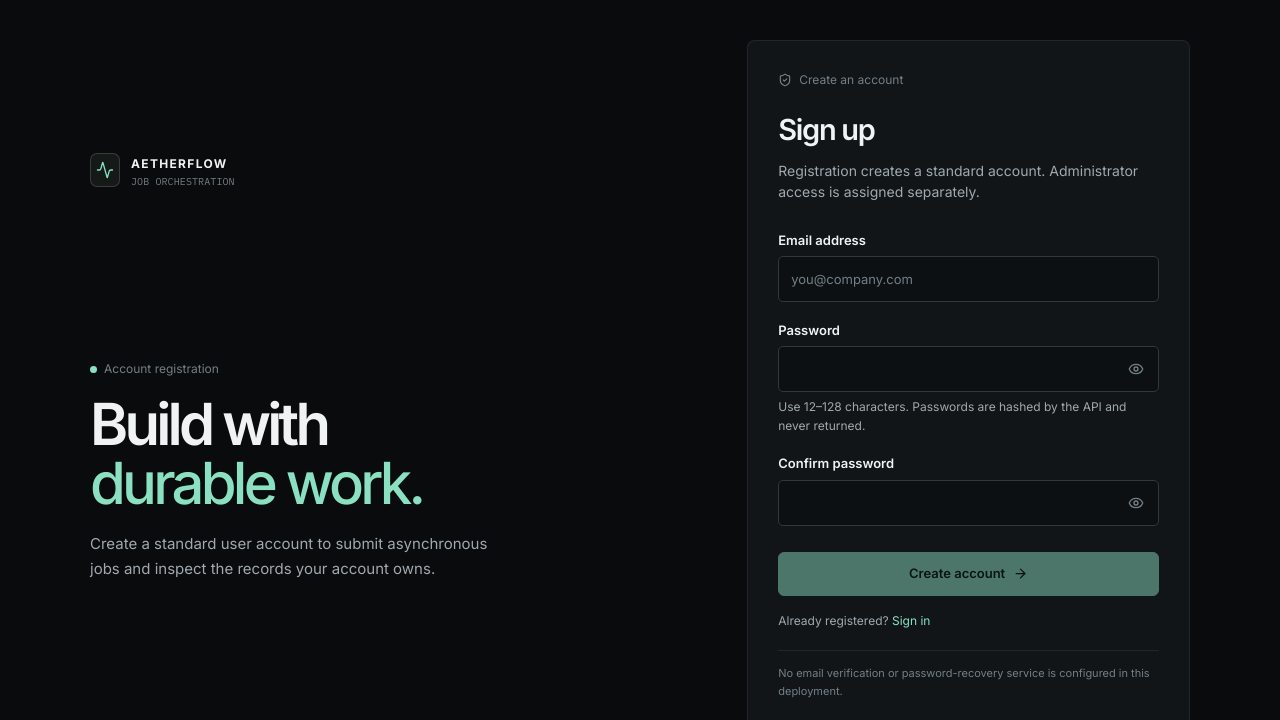
Scenario: registration page › creates a standard account and leaves sign-in as a separate step
The image size is (1280, 720).
In the field labelled "Email address": x=969, y=279 [778,256,1159,302], type " new-user@example.com "
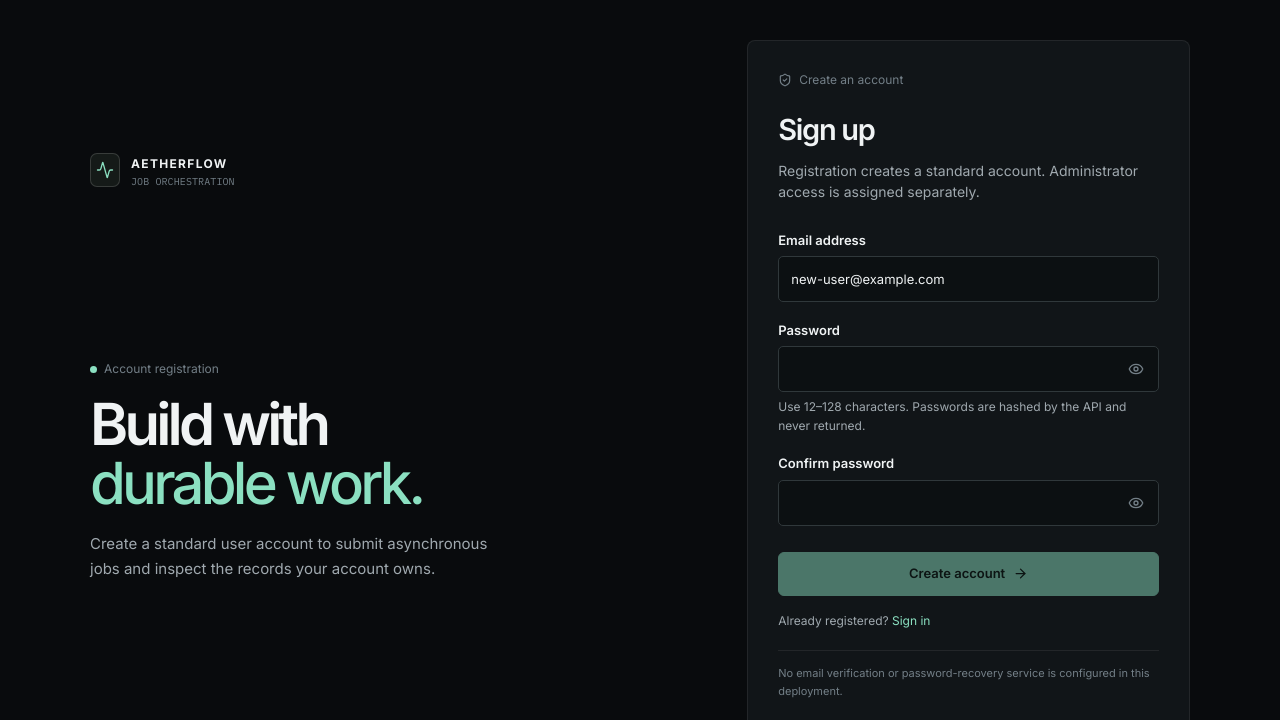
In the password field labelled "Password": x=969, y=369 [778,346,1159,392], type "a long registration password"
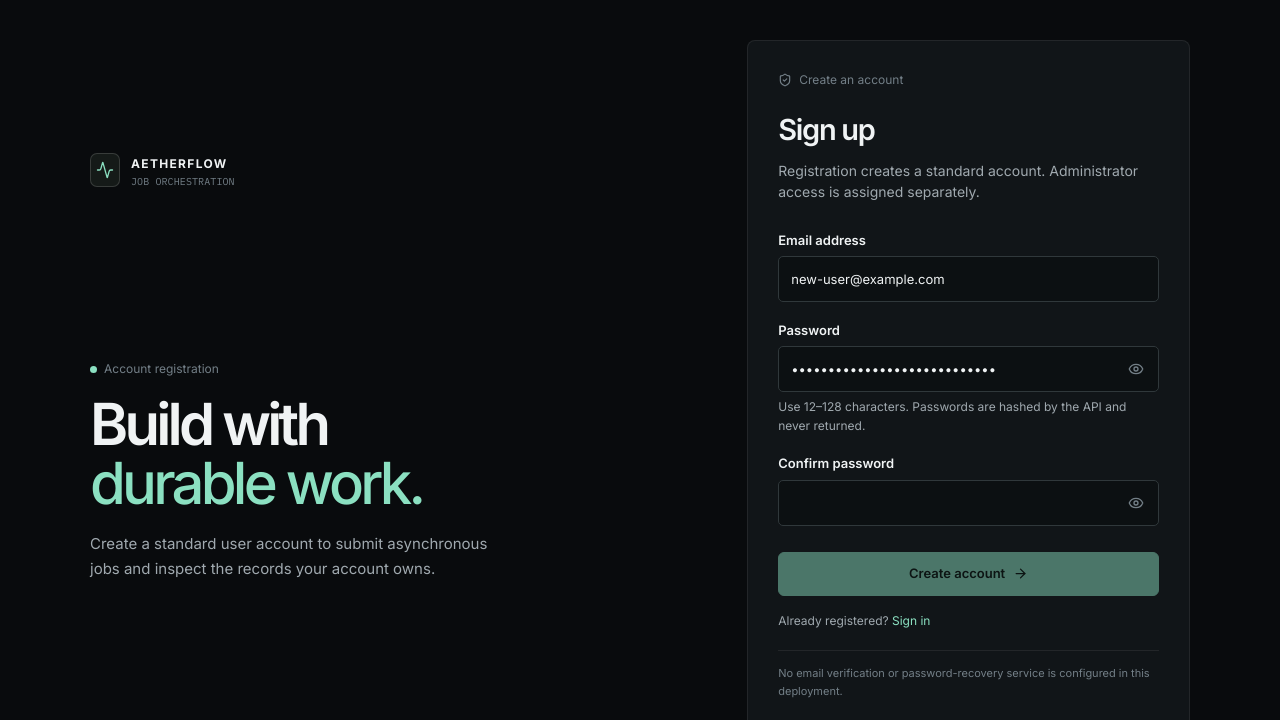
In the password field labelled "Confirm password": x=969, y=502 [778,480,1159,526], type "a long registration password"
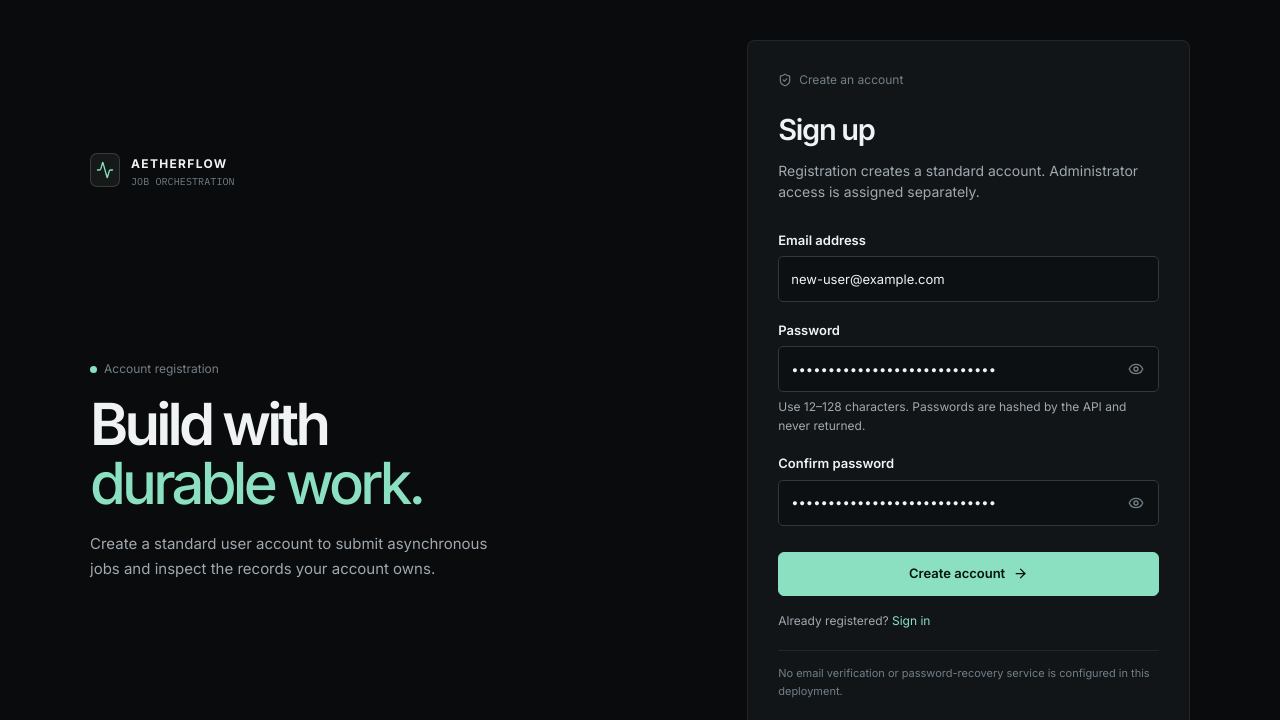
Click the button "Create account": x=969, y=574 [778,552,1159,596]
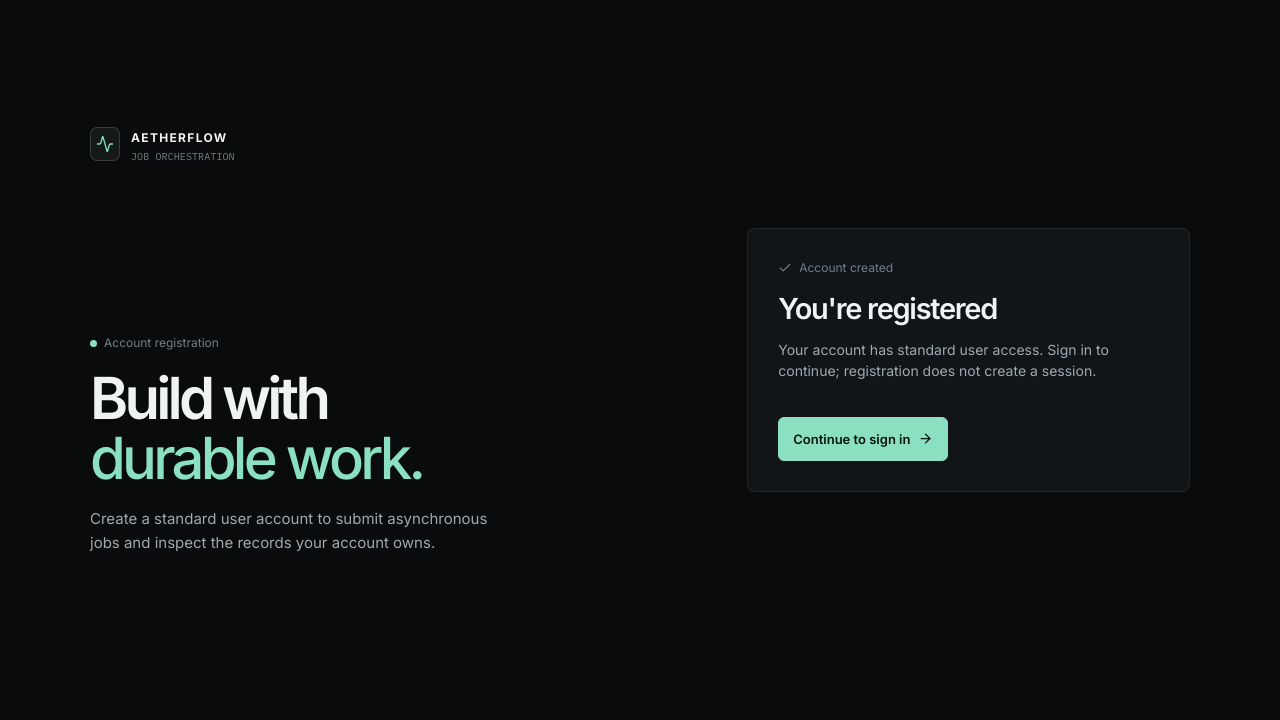
Expected: the heading "You're registered" is shown, [778,291,997,326]
